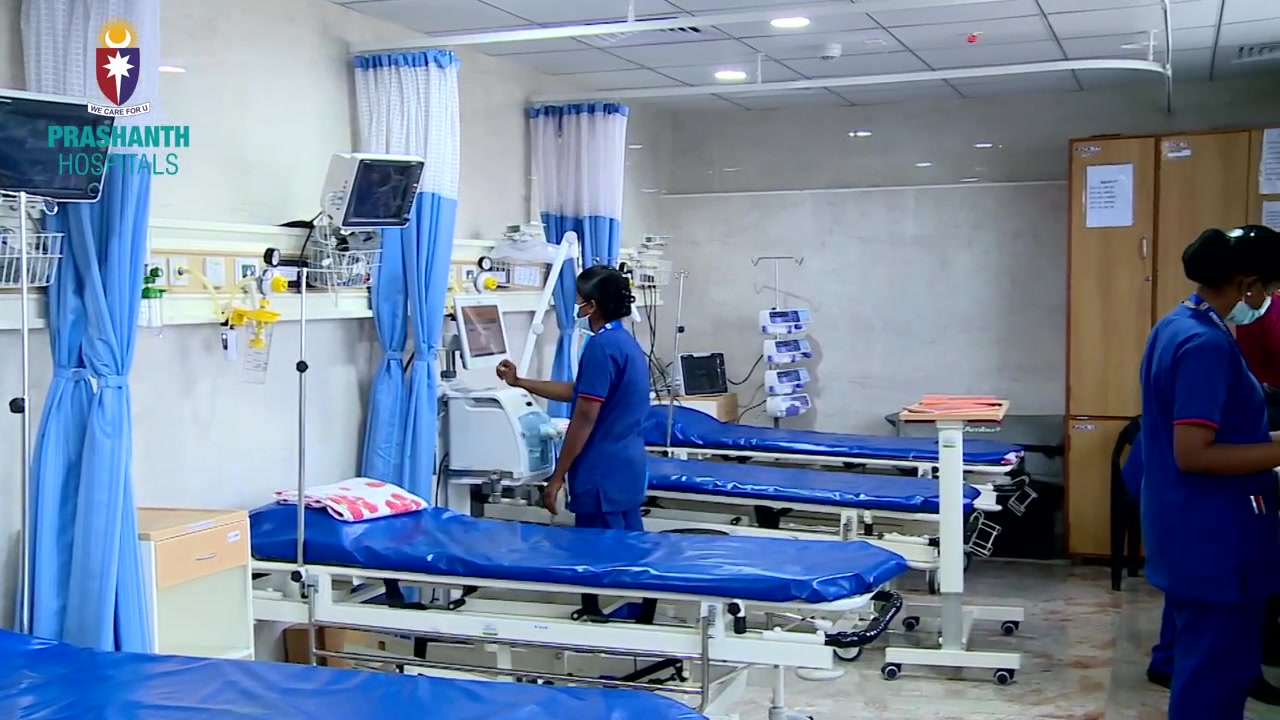bedrail: (309, 577, 713, 694)
bedside_monitor: (1, 89, 116, 203), (318, 152, 424, 231), (455, 297, 512, 370), (678, 352, 728, 395)
bedside_table: (134, 507, 254, 660)
cabinet: (1066, 123, 1280, 568)
curtain: (18, 1, 160, 654), (349, 48, 461, 508), (526, 100, 627, 419)
handle: (1072, 424, 1098, 431), (1139, 237, 1147, 258)
hospital_bed: (248, 478, 907, 719), (540, 425, 1002, 593), (1, 629, 714, 720), (643, 404, 1037, 516)
iv_pole: (259, 267, 349, 585), (1, 192, 60, 635), (666, 269, 689, 448), (751, 254, 810, 309)
overbed_table: (880, 393, 1023, 687)
staff: (1140, 224, 1280, 720), (496, 266, 649, 624)
syringe_pump: (758, 308, 811, 337), (764, 367, 809, 394), (766, 395, 812, 420), (764, 338, 812, 361)
ventilator: (450, 378, 563, 478)
